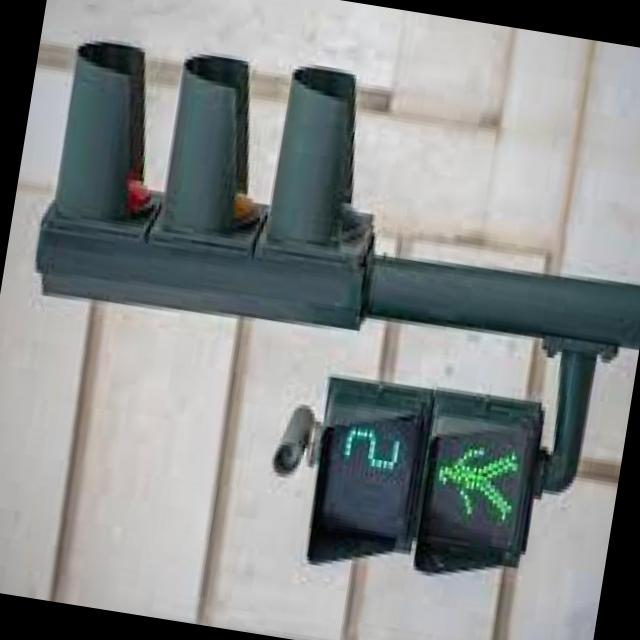green_light: (323, 412, 529, 552)
